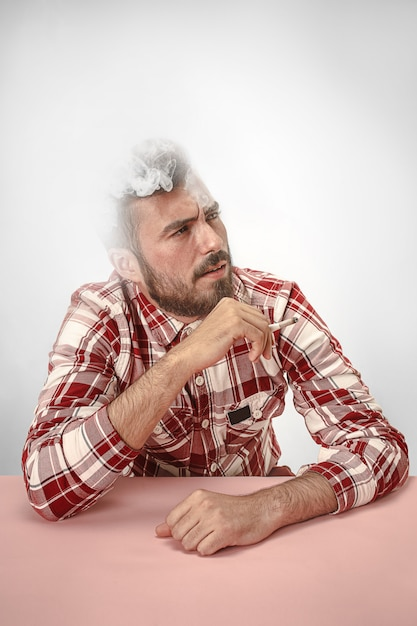cigarette: (264, 314, 300, 332)
